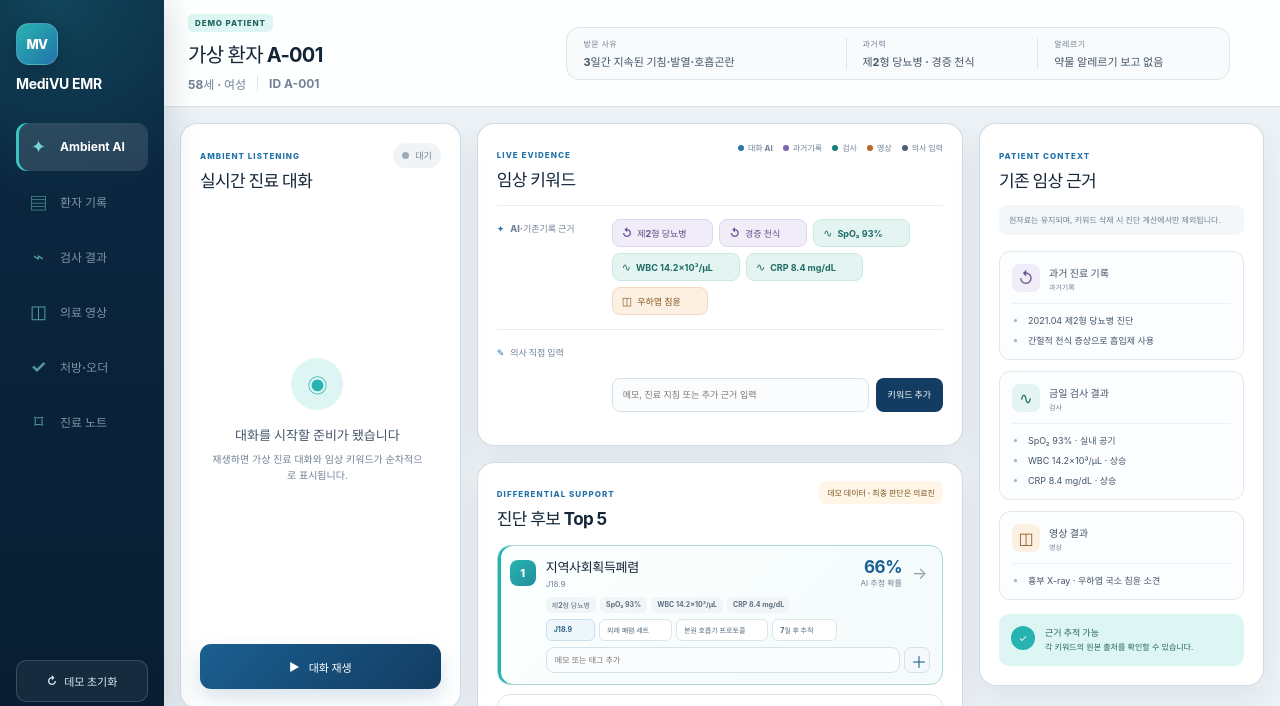
it: AmbientWorkspace › adds a custom memo tag to a diagnosis card
The image size is (1280, 706).
In the field named "지역사회획득폐렴 태그 입력": (723, 660) [546,647,900,673], type "보호자 연락 완료"
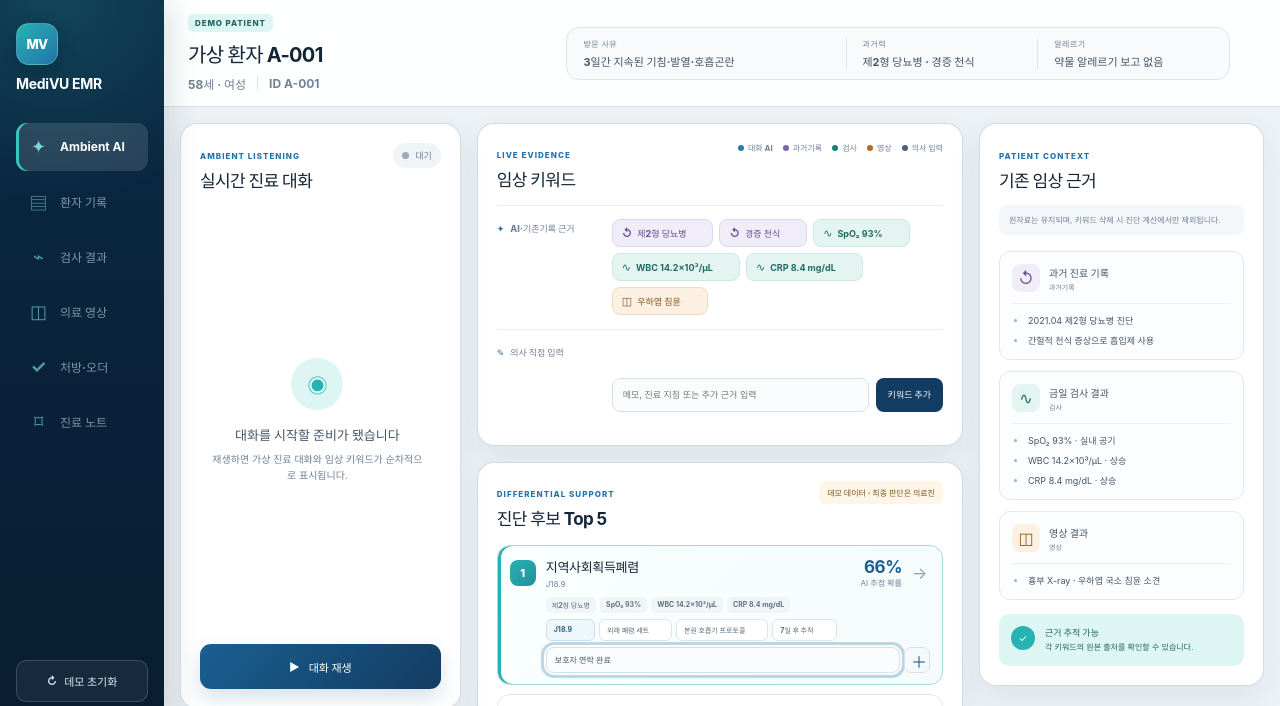
Click the button named "지역사회획득폐렴 태그 추가": (917, 660) [904,647,930,673]
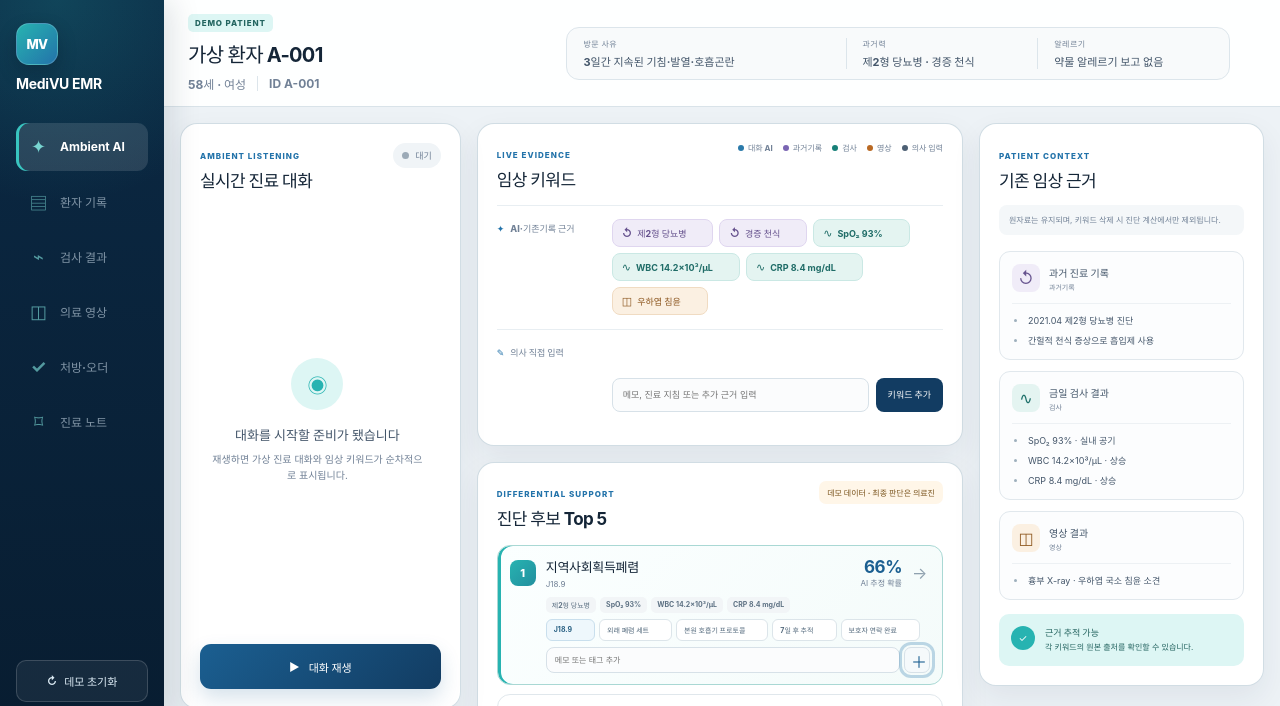
Result: the text "보호자 연락 완료" is shown at [840,619,920,641]
